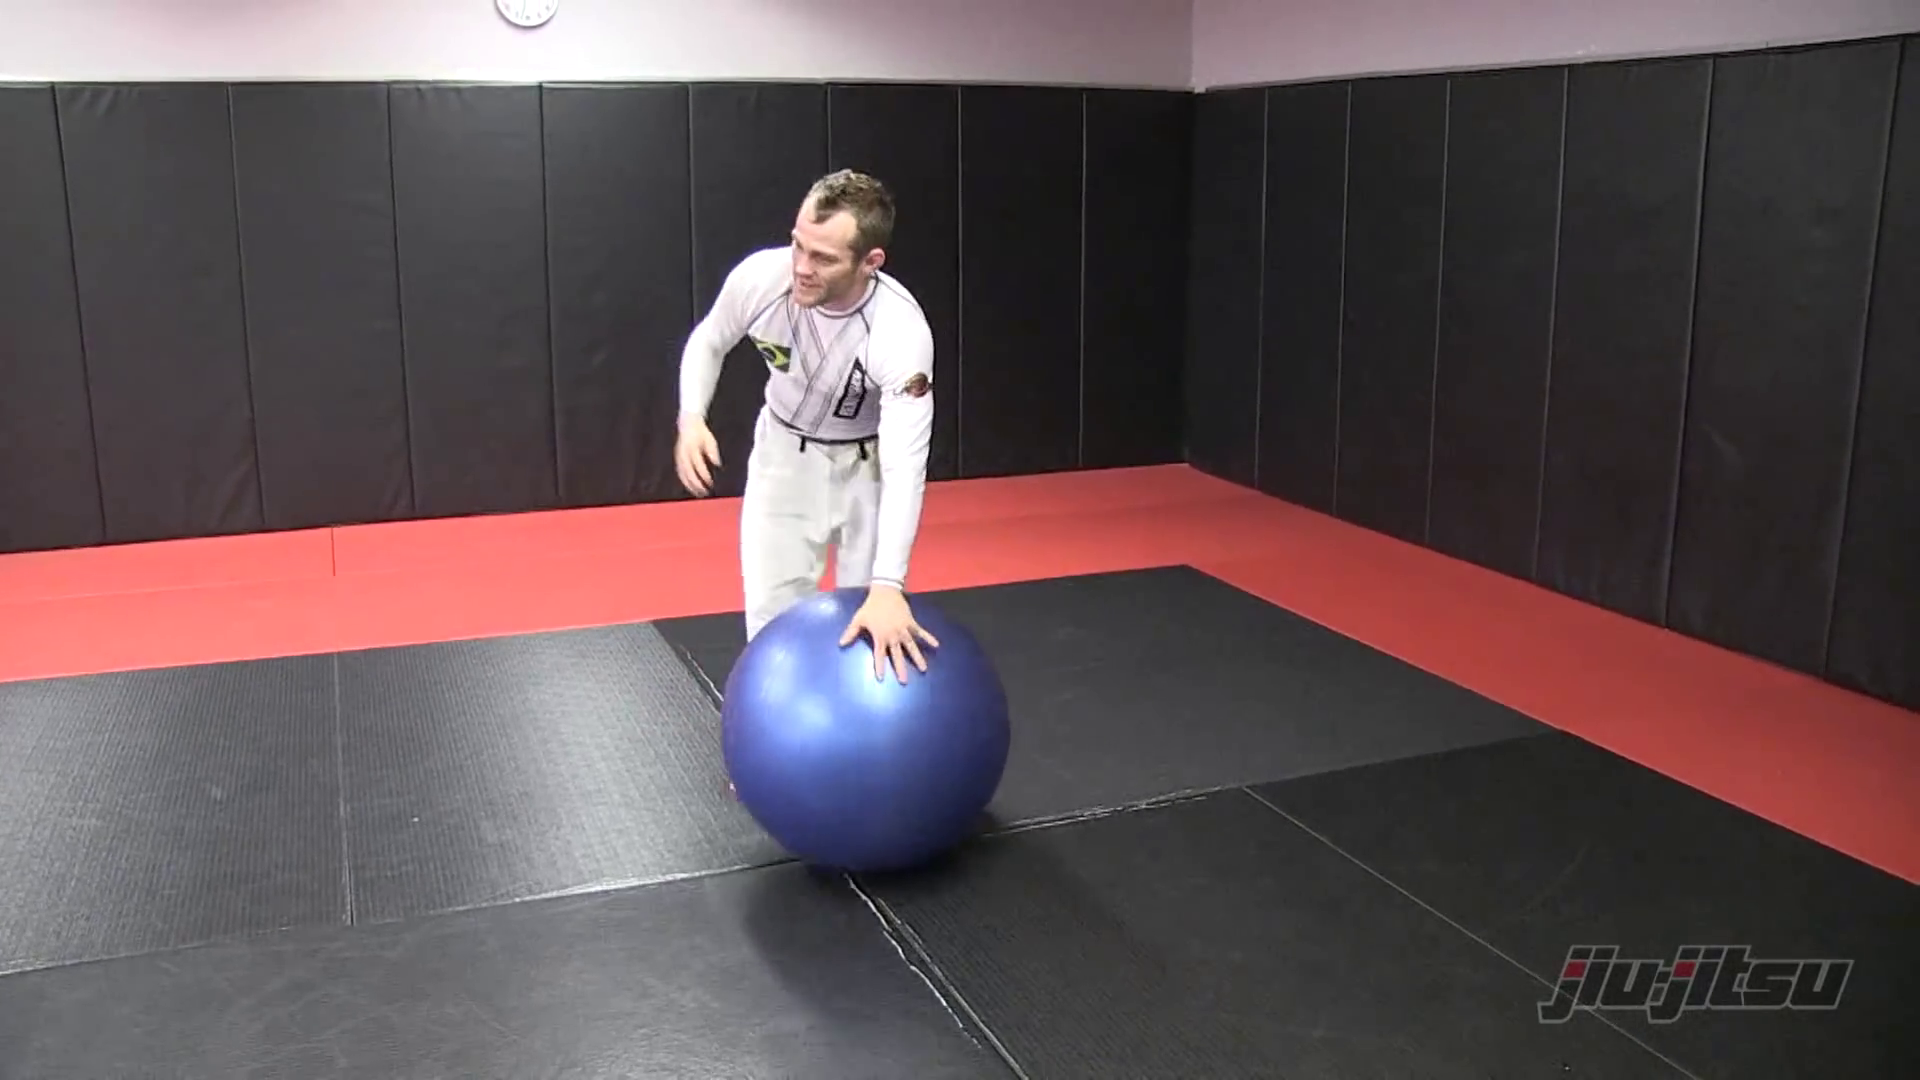yogaball: (703, 576, 1030, 897)
